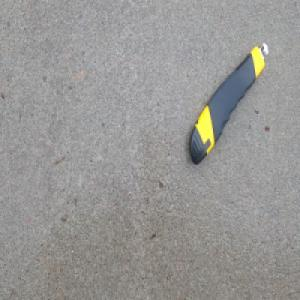Cutter: (188, 41, 269, 168)
